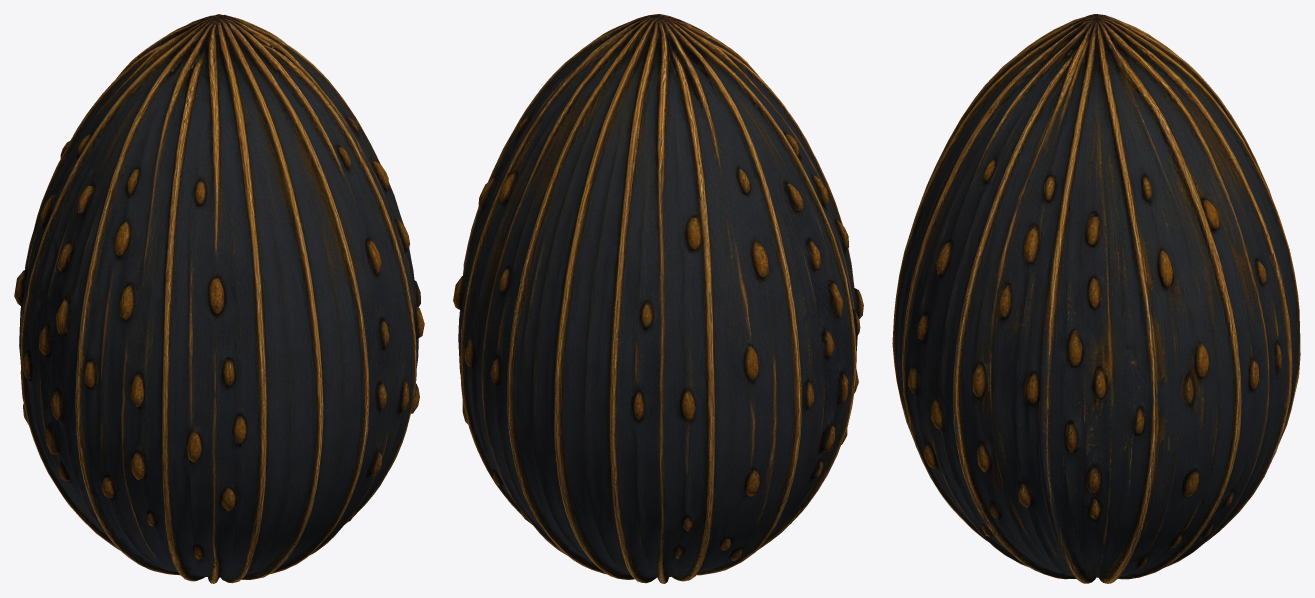
The model's file is seed+pod+3d+model+1k.glb.
3 renders of one model, left to right at view 1: azimuth 30°, elevation 25°; view 2: azimuth 150°, elevation 25°; view 3: azimuth 270°, elevation 25°, orthographic.
Visible parts, largest first — view 1: tripo_node_f5552d9d-00a1-49aa-a726-e37b7b7ae25c; view 2: tripo_node_f5552d9d-00a1-49aa-a726-e37b7b7ae25c; view 3: tripo_node_f5552d9d-00a1-49aa-a726-e37b7b7ae25c.
Boxes of the visible parts, x1,y1,x2,y2 form: tripo_node_f5552d9d-00a1-49aa-a726-e37b7b7ae25c: (14,14,424,583); tripo_node_f5552d9d-00a1-49aa-a726-e37b7b7ae25c: (453,14,863,583); tripo_node_f5552d9d-00a1-49aa-a726-e37b7b7ae25c: (892,14,1300,583).
Bounding box in the file's own units: 0.6746 × 1 × 0.6691.
Materials: 1 (1 with a texture image).
